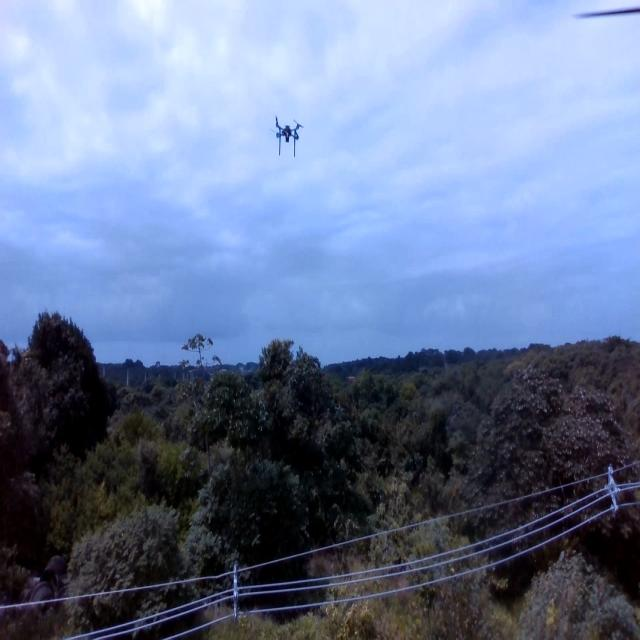-uav-: (268, 104, 307, 157)
